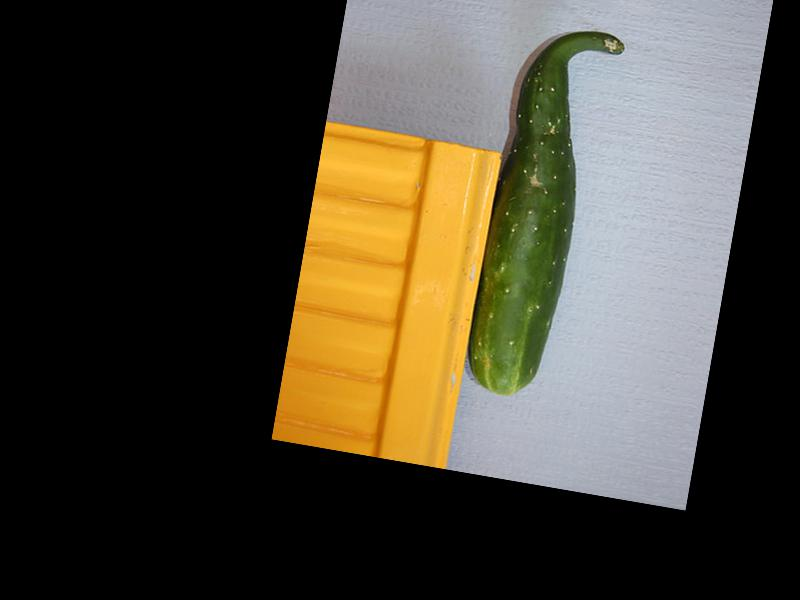Cucumber: (460, 17, 627, 402)
